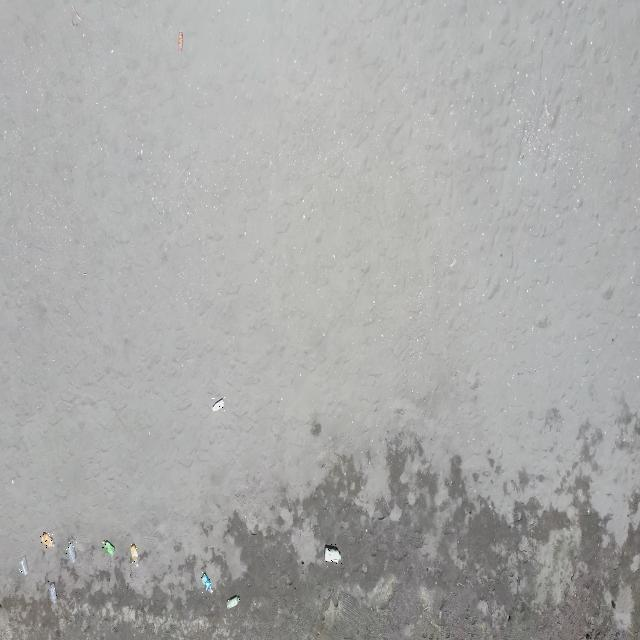plastic-bottle: (324, 543, 342, 564), (129, 542, 140, 568), (201, 572, 213, 594), (225, 592, 241, 608), (40, 532, 56, 548), (102, 540, 116, 557), (211, 396, 225, 412)
takeaway-cup: (66, 542, 78, 564), (48, 581, 58, 606), (19, 553, 29, 578)
